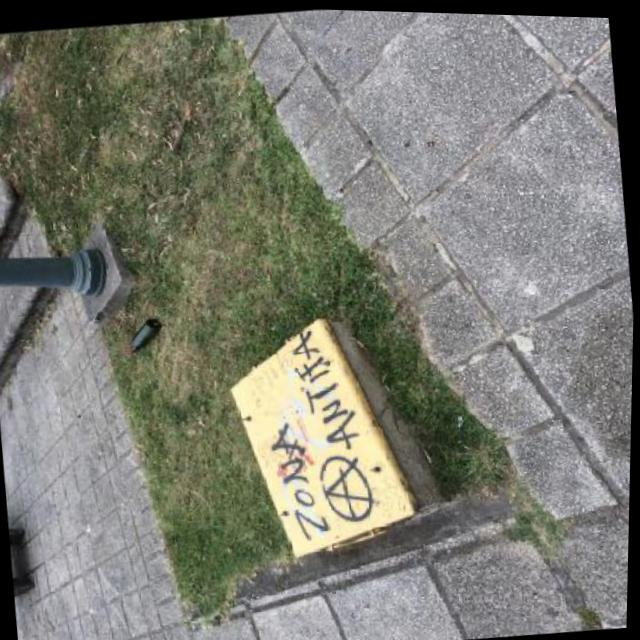glass: (125, 314, 163, 353)
